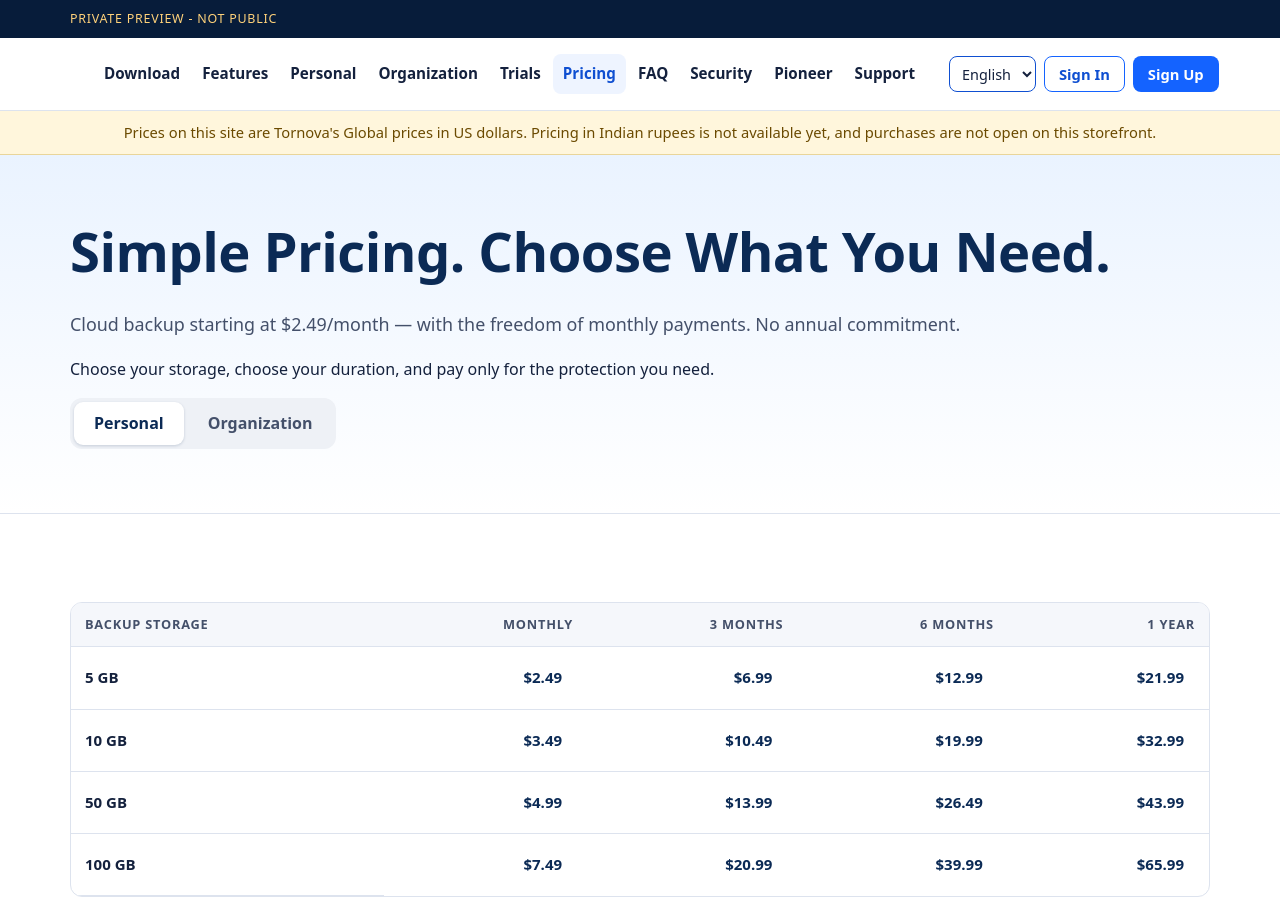
Test: safety holds while findings are deferred to Stage 14 (VG 2026-09-19) › offers no purchase on the India storefront: the public prices are the Global / USD catalog
The width and height of the screenshot is (1280, 900).
Expected: the text "Pricing in Indian rupees is not available yet" is shown, [124, 122, 1156, 142]
Click the button "$2.49" at (543, 678), box [512, 659, 573, 697]
(page scrolled)
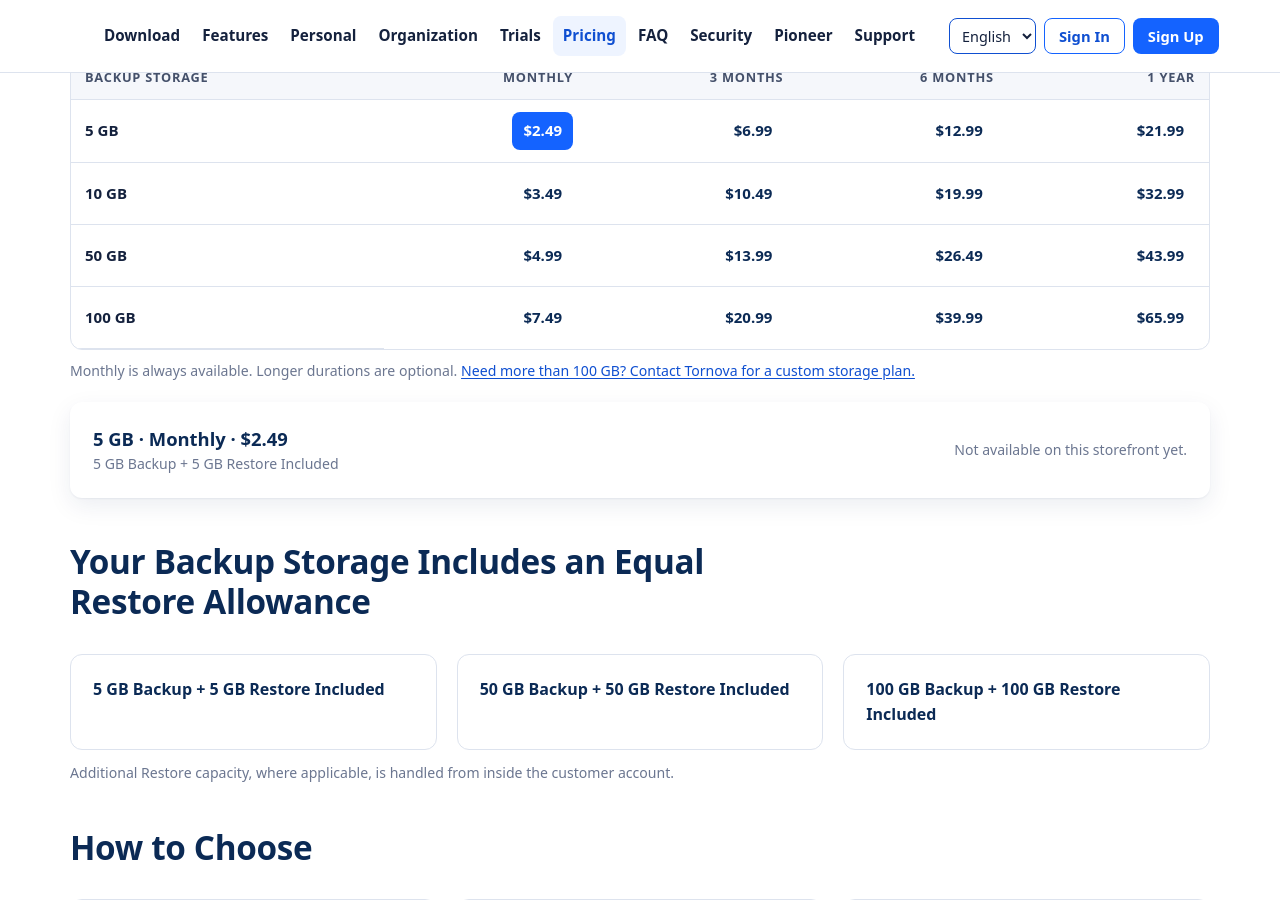
Expected: the text "Not available on this storefront yet." is shown, [954, 439, 1187, 461]
